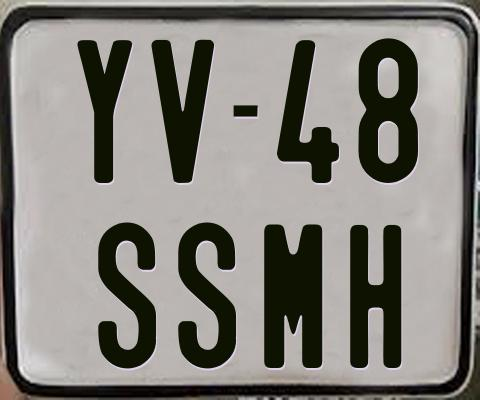4: (274, 37, 337, 183)
8: (356, 36, 418, 181)
H: (347, 225, 400, 368)
M: (261, 221, 324, 368)
S: (175, 222, 239, 373), (96, 219, 155, 369)
V: (151, 39, 218, 182)
Y: (76, 40, 134, 185)
